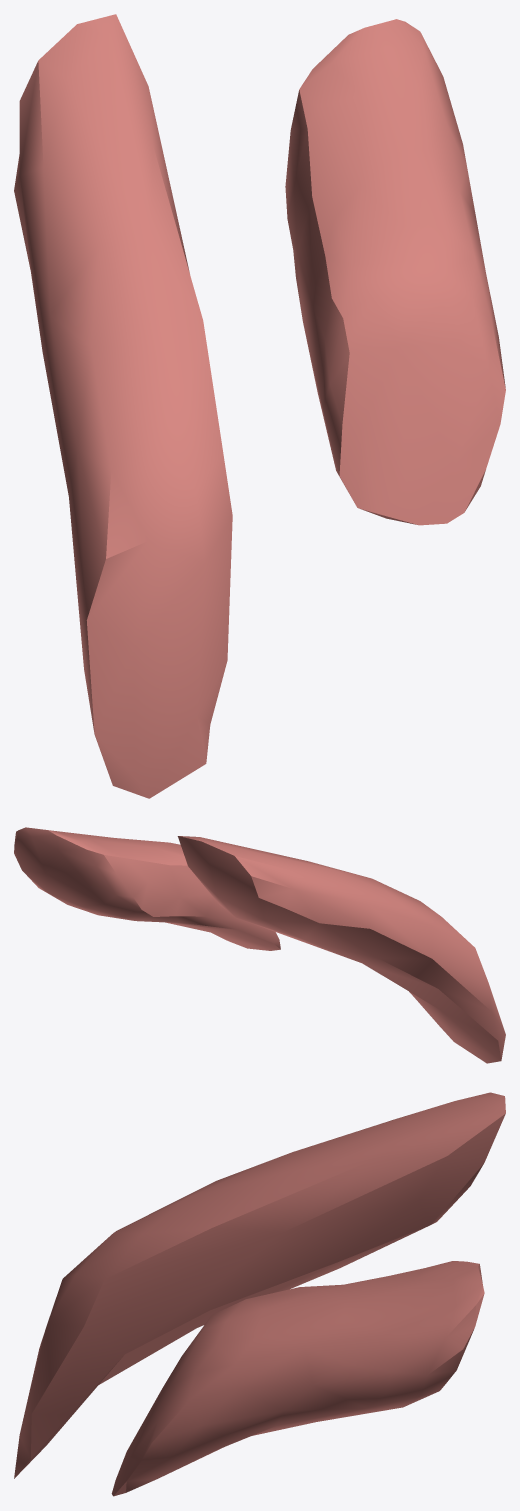
Rendered from fma42596_mm1926.glb.
3 views of the same model, one above another, from view 1: azimuth 30°, elevation 25°; view 2: azimuth 150°, elevation 25°; view 3: azimuth 270°, elevation 25° (orthographic). The views are drawn at different scales.
Parts seen in each view (by area): view 1: FMA42596_MM1926; view 2: FMA42596_MM1926; view 3: FMA42596_MM1926.
Part boxes in pixels (<box>): FMA42596_MM1926: <box>14,14,505,798</box>; FMA42596_MM1926: <box>14,827,505,1063</box>; FMA42596_MM1926: <box>14,1092,505,1496</box>.
Size of the model in its own units: 0.0146 by 0.0125 by 0.0119.
